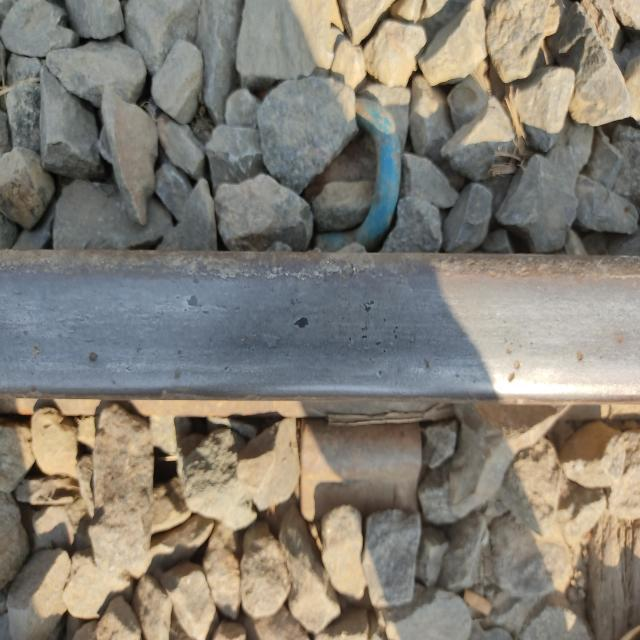broken_rail_medium: (575, 348, 587, 362), (616, 329, 622, 350)
squats_high: (358, 297, 376, 341), (505, 348, 521, 386), (186, 293, 203, 309), (294, 314, 309, 332), (422, 357, 432, 374), (88, 351, 99, 365), (173, 367, 181, 383), (377, 368, 383, 378)
